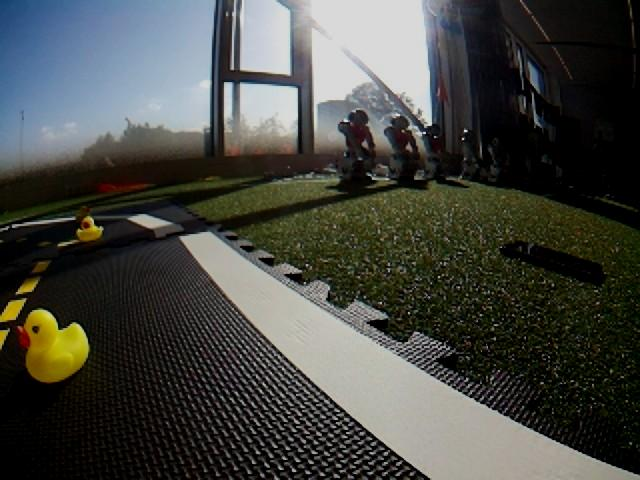Duckies: (16, 308, 89, 383), (78, 216, 104, 241), (76, 206, 93, 224)
